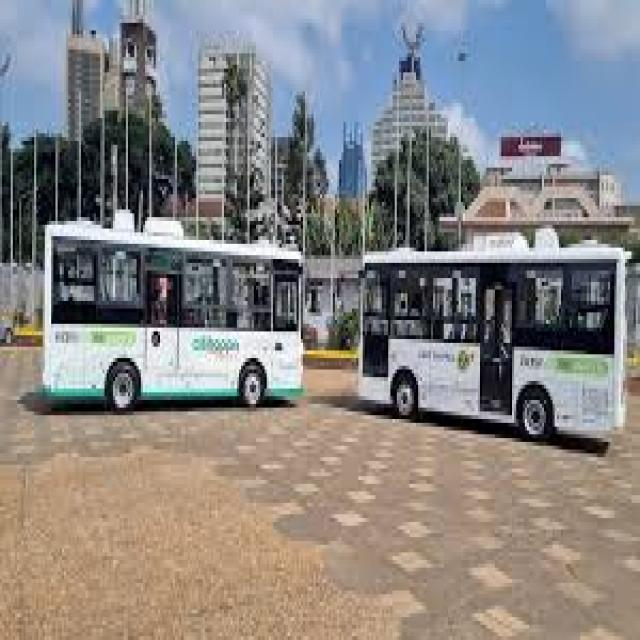bus: (355, 152, 640, 504), (26, 156, 322, 462)
